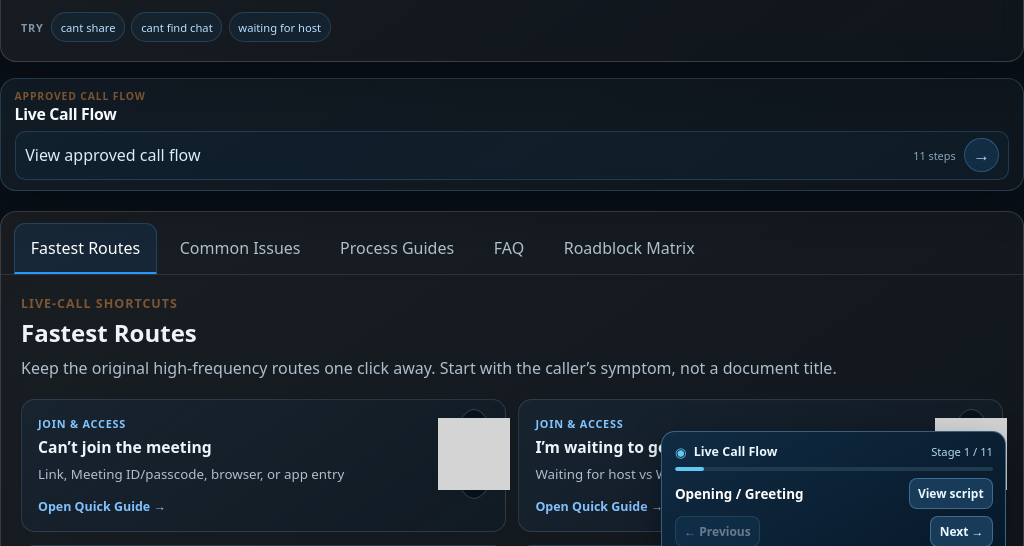
Test: preserves the five Fastest Routes and exposes all nineteen reviewed routes under Common Issues
(page scrolled)
Expected: the button "Can’t join the meeting" is shown, [21,399,506,532]
Expected: the button "I’m waiting to get in" is shown, [518,399,1003,532]
Click the tab "Common Issues": (240, 249) [163,224,318,274]
(page scrolled)
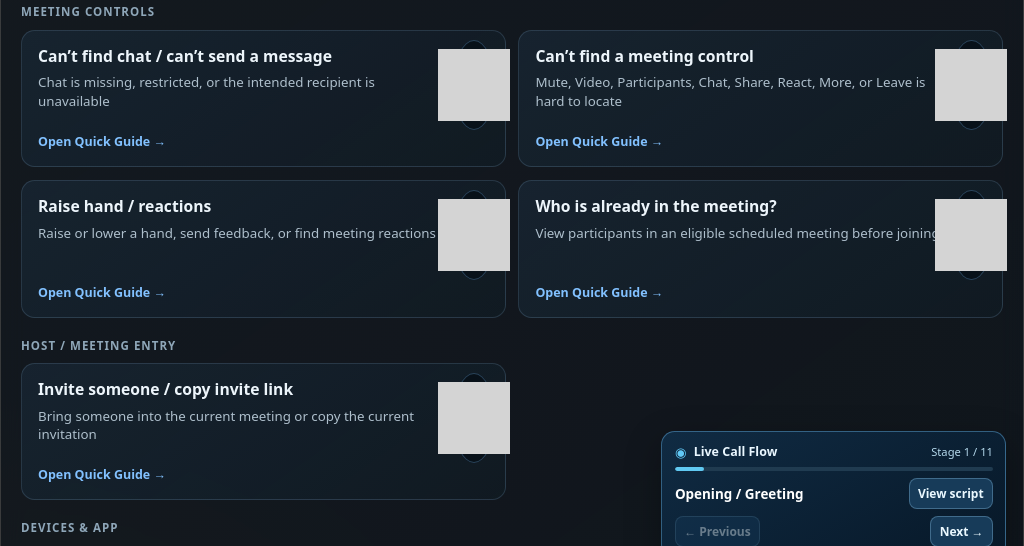
Expected: the button "Can’t find chat / can’t send a message" is shown, [21,30,506,167]
Expected: the button "Can’t find a meeting control" is shown, [518,30,1003,167]
Expected: the button "Raise hand / reactions" is shown, [21,180,506,318]
